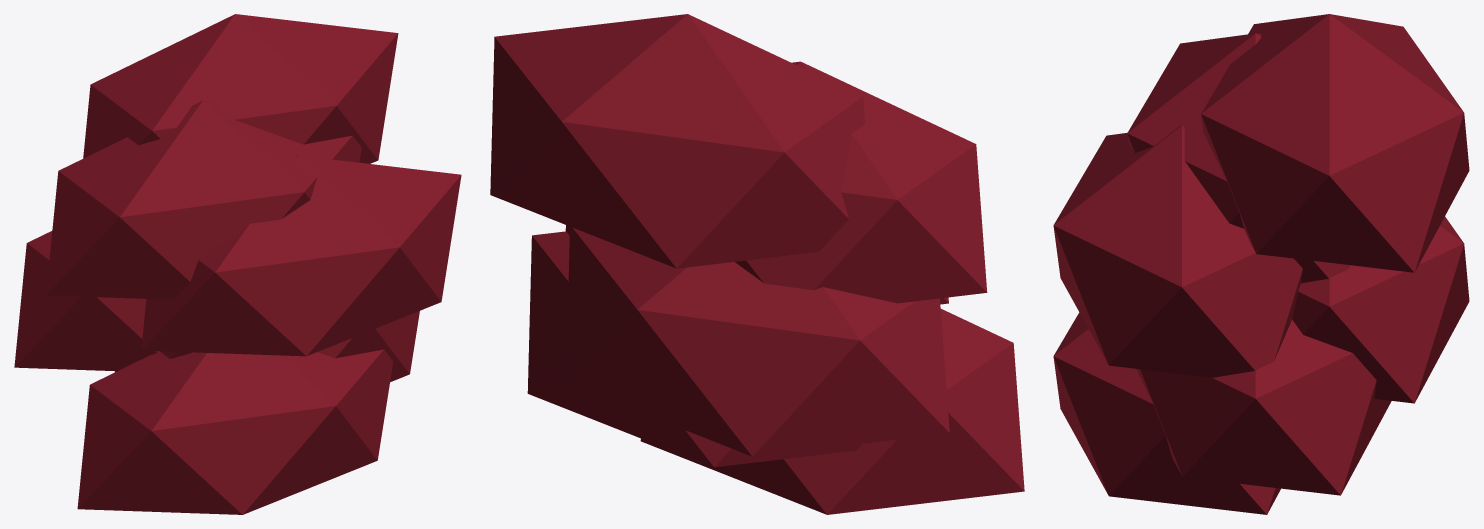
File: w3d_item_berries_l.glb
3 views of the same model, side by side, from view 1: azimuth 30°, elevation 25°; view 2: azimuth 150°, elevation 25°; view 3: azimuth 270°, elevation 25° (orthographic). The views are drawn at different scales.
Parts seen in each view (by area): view 1: item_017_berries_l; view 2: item_017_berries_l; view 3: item_017_berries_l.
Boxes of the visible parts, x1,y1,x2,y2 form: item_017_berries_l: [14, 14, 461, 514]; item_017_berries_l: [490, 14, 1024, 514]; item_017_berries_l: [1053, 14, 1469, 514].
Bounding box in the file's own units: 0.4215 × 0.454 × 0.3384.
